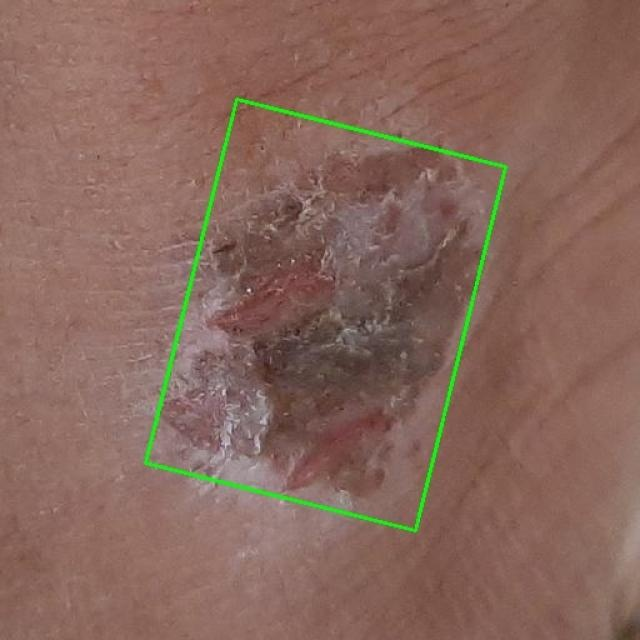Contact Dermatitis: (146, 100, 506, 530)
